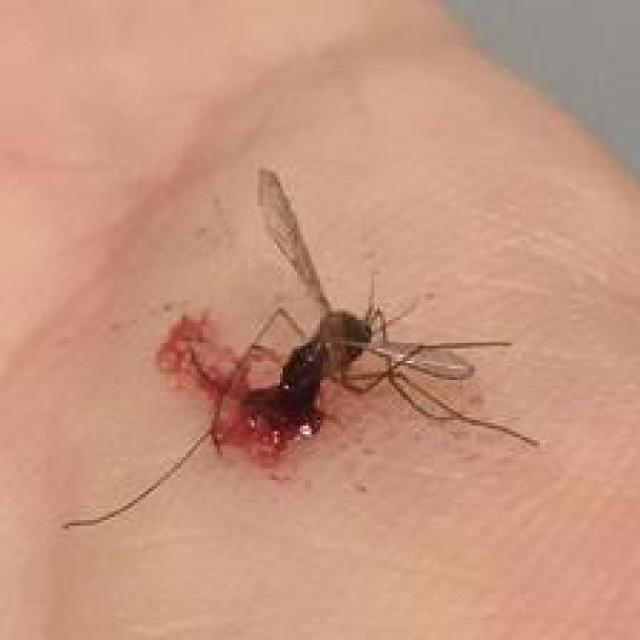Culex: (61, 164, 542, 533)
